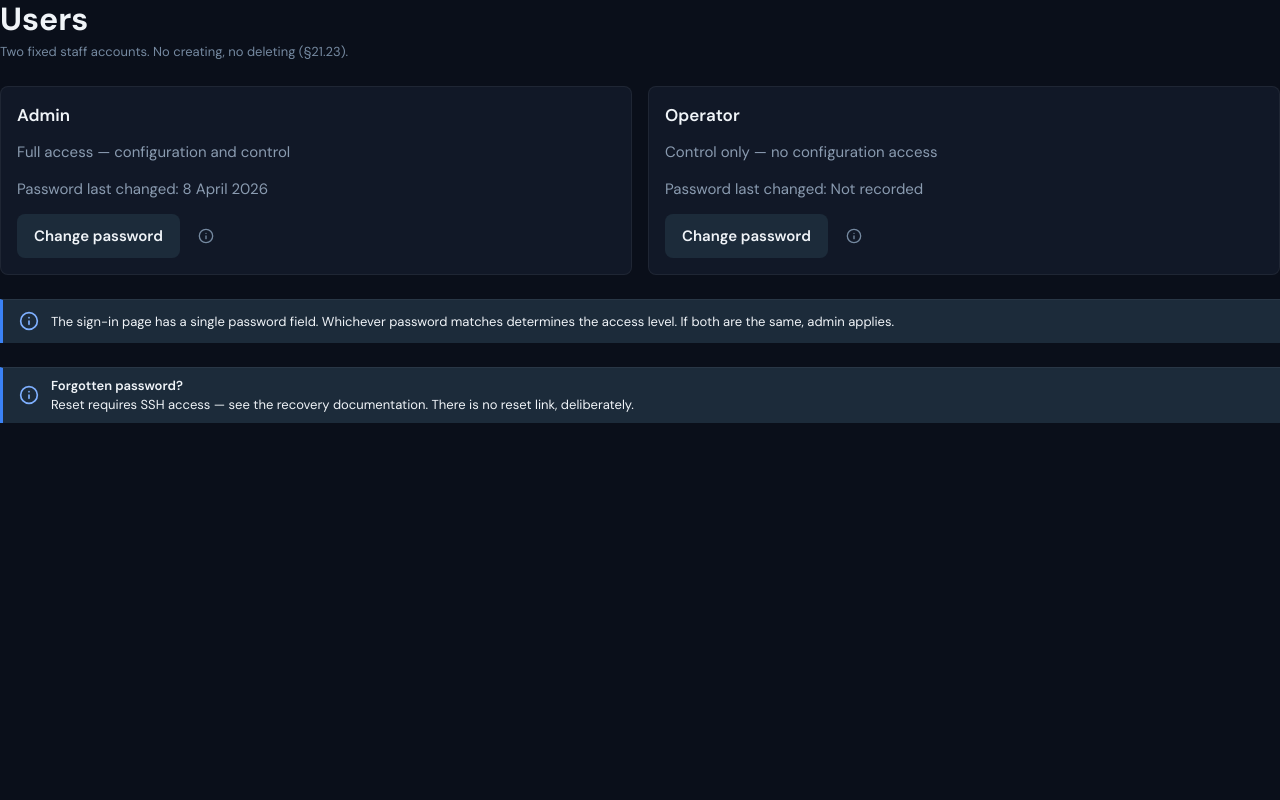
Test: UsersScreen › changes the admin's own password with the admin's own current password
Click the button "Change password" below "8 April 2026" at (98, 236), box [17,214,180,258]
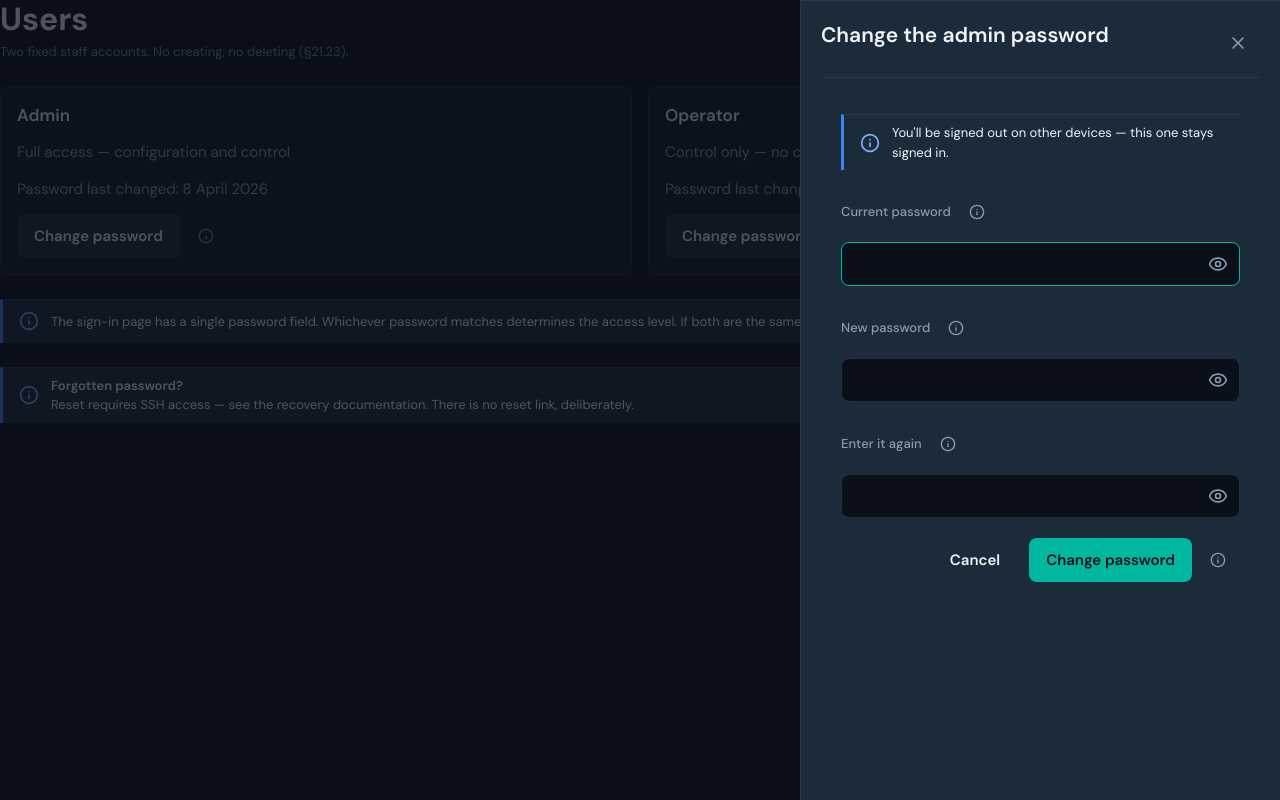
Result: the heading "Change the admin password" is shown at [821,21,1109,50]
Type "old-admin-password" into the password field labelled "Current password" at (1040, 264), box [841,242,1240,286]
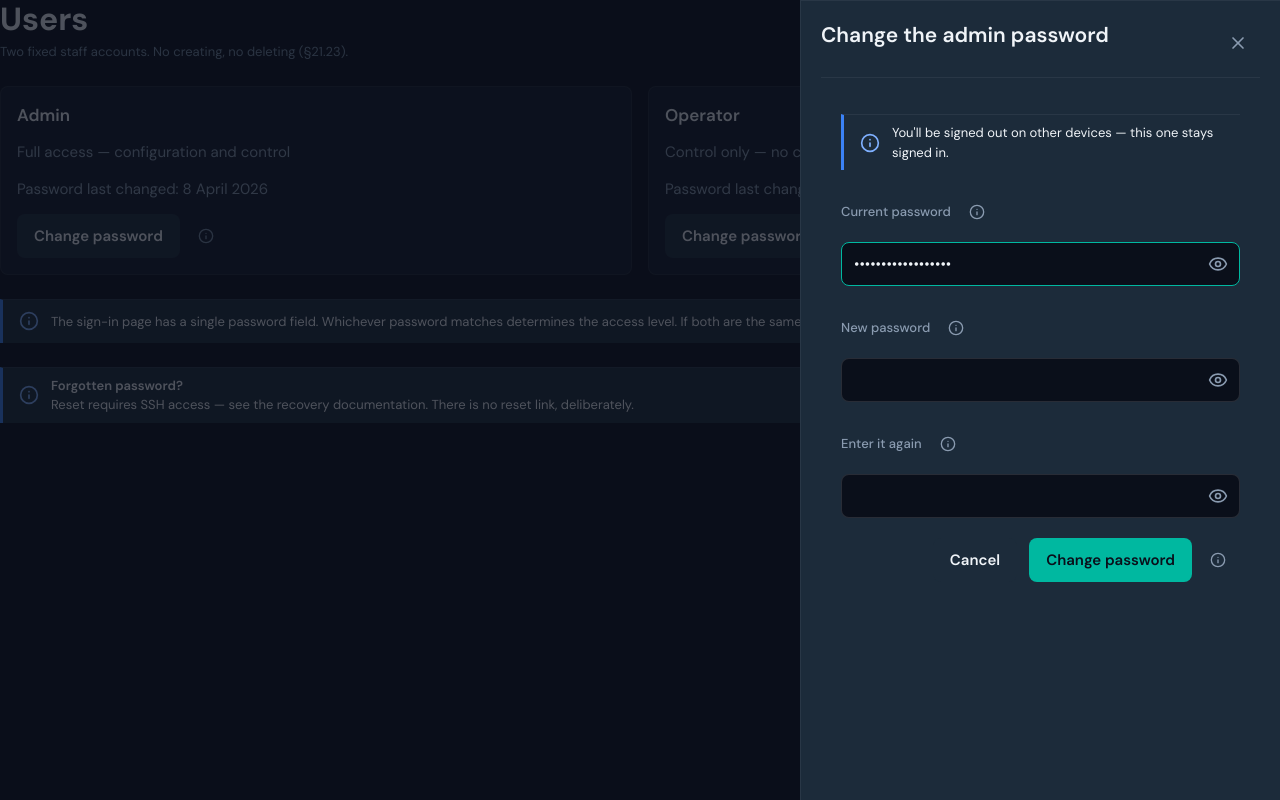
Type "a-new-admin-password" into the password field labelled "New password" at (1040, 380), box [841,358,1240,402]
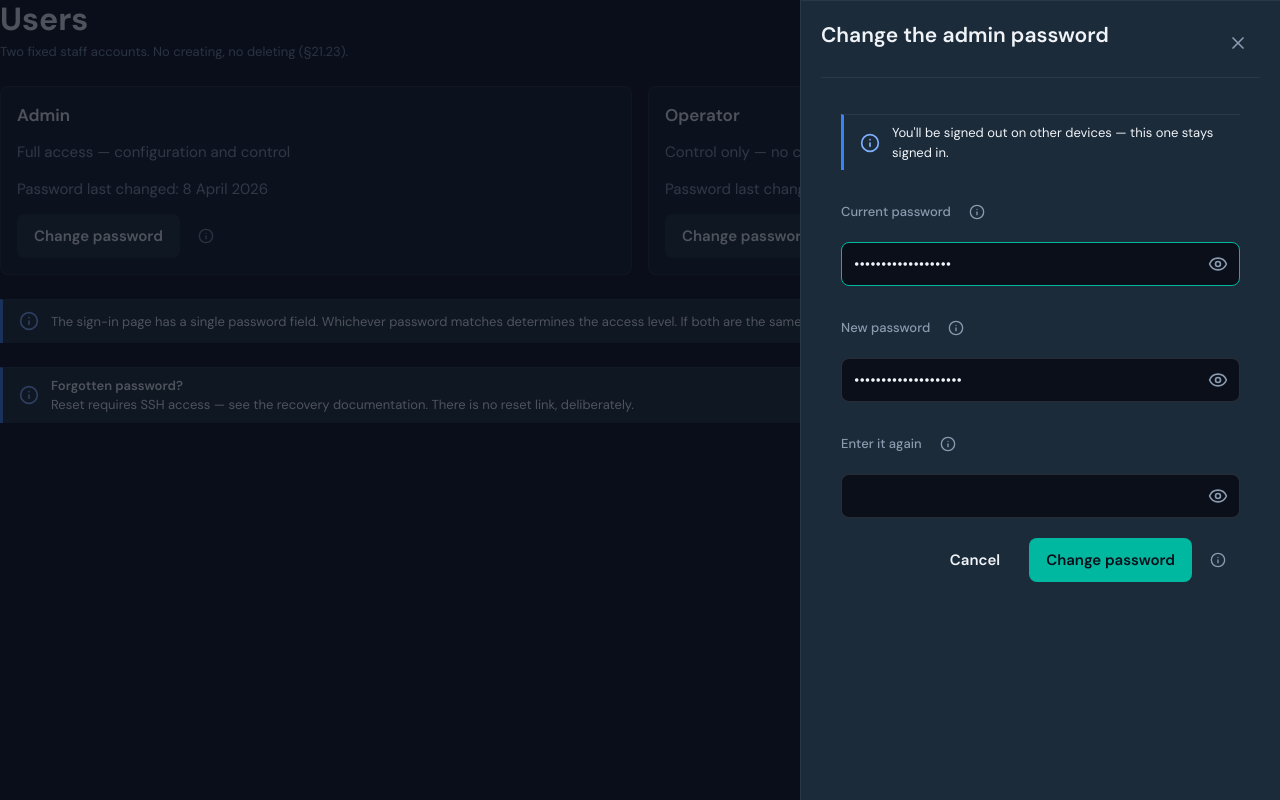
Type "a-new-admin-password" into the password field labelled "Enter it again" at (1040, 496), box [841,474,1240,518]
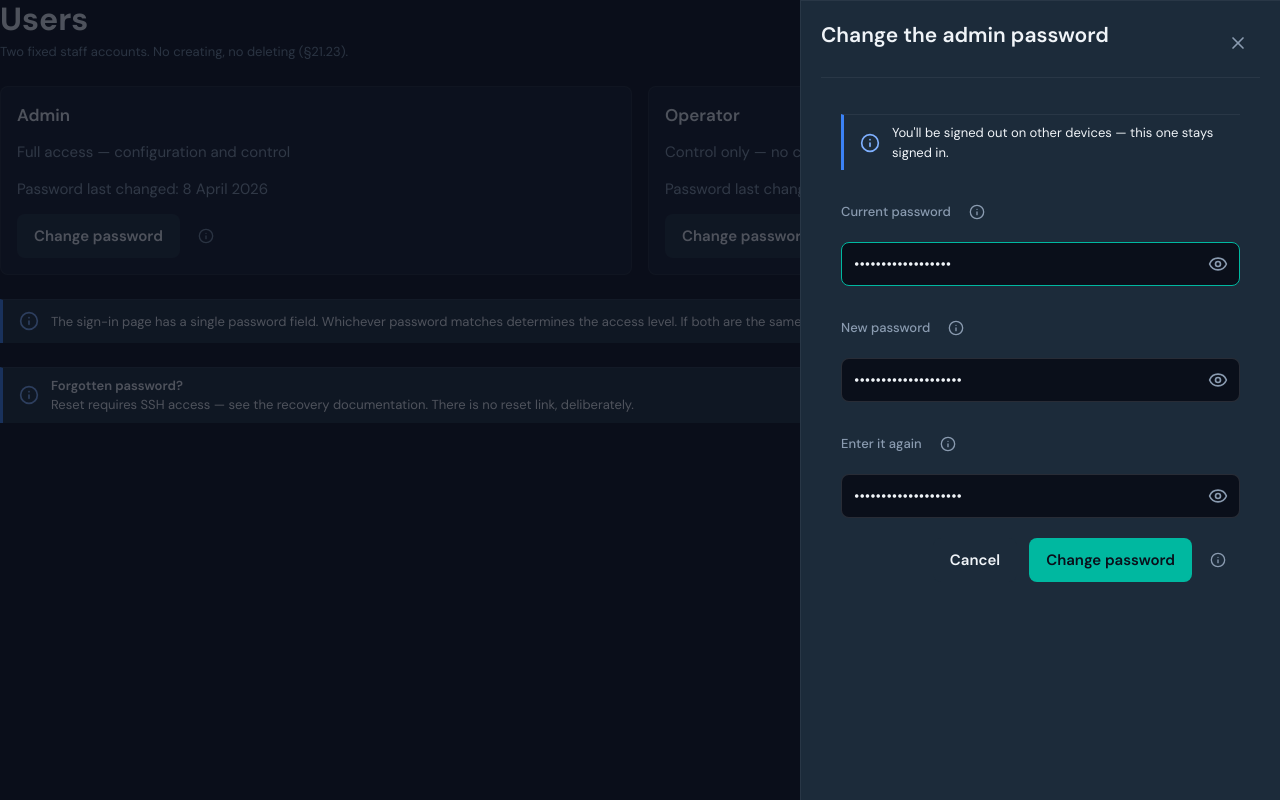
Click the button "Change password" at (1111, 560), box [1029,538,1192,582]
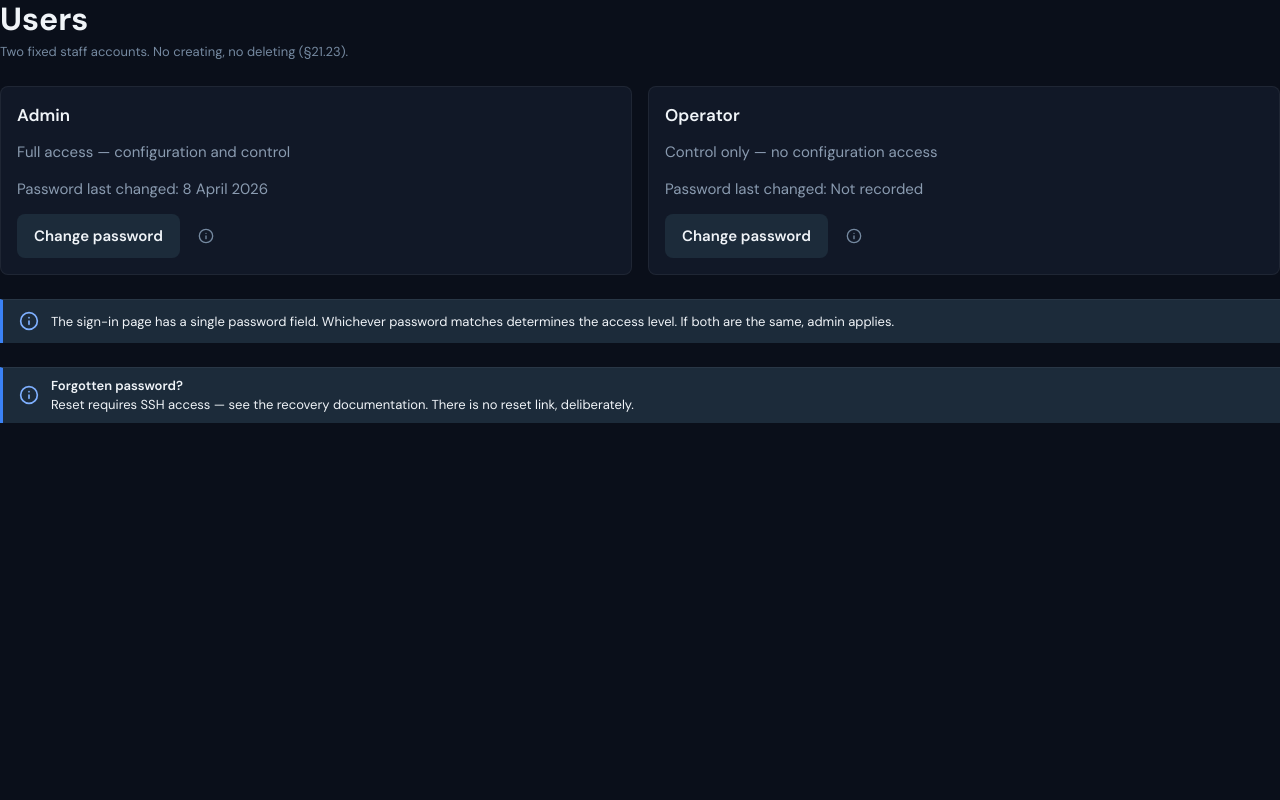
Result: the heading "Change the admin password" is gone
